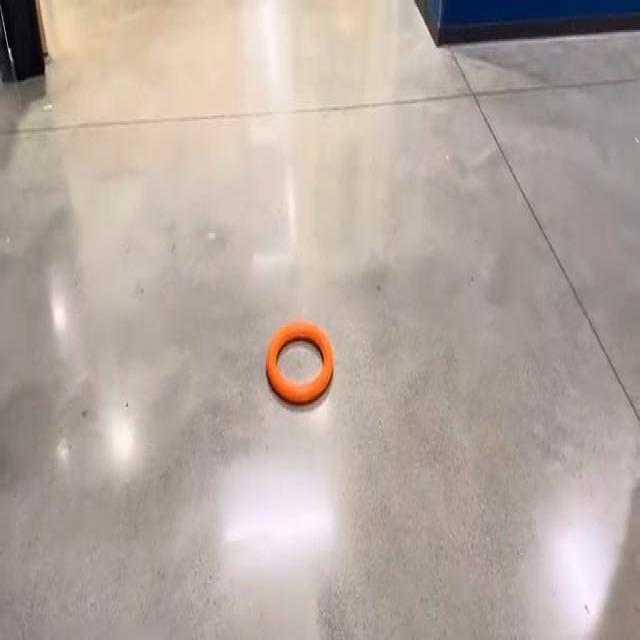note: (266, 320, 332, 404)
